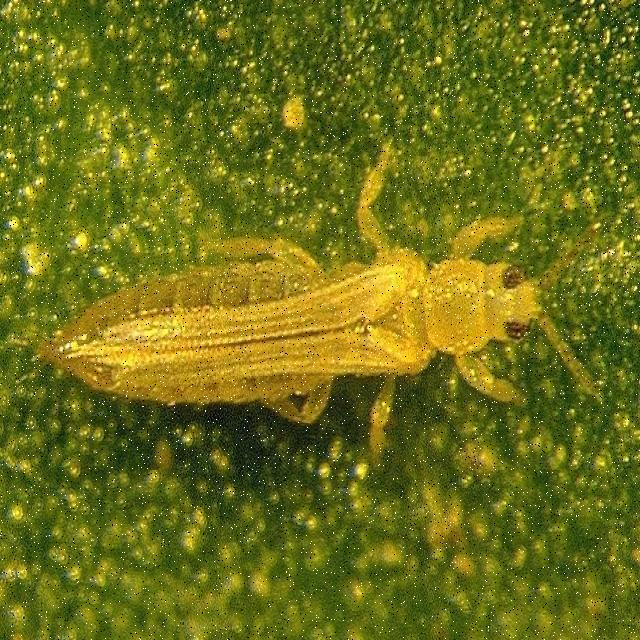Thrips: (23, 145, 610, 467)
